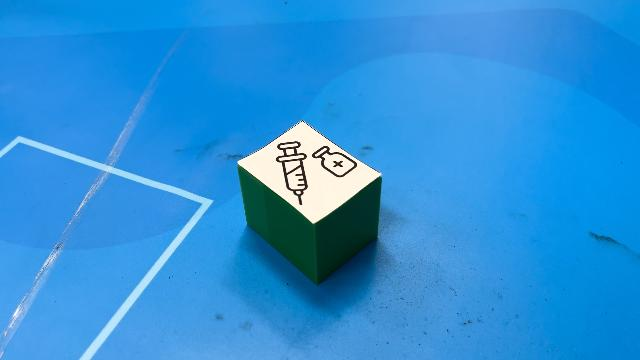syringe: (238, 121, 382, 283)
